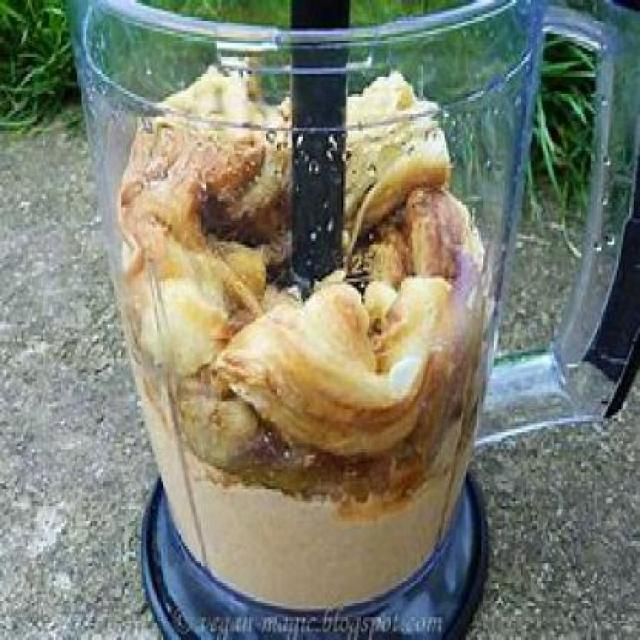eggplant: (103, 57, 499, 486)
hummus: (125, 394, 472, 598)
